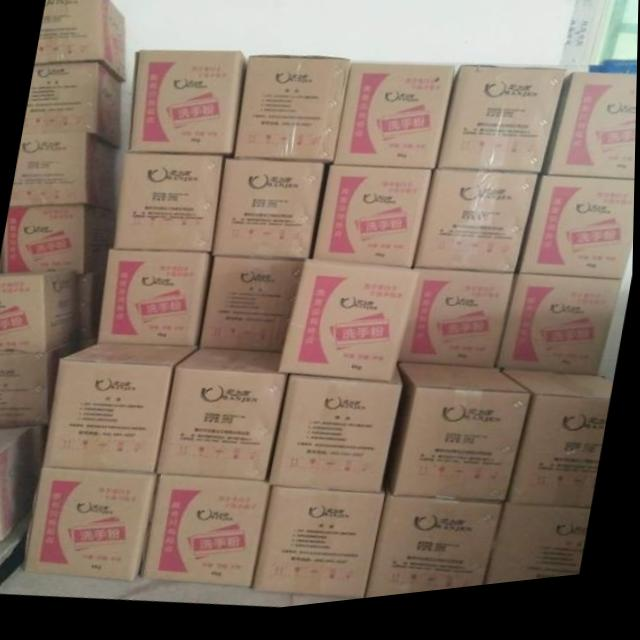box: (387, 372, 534, 513), (44, 345, 201, 477), (279, 266, 423, 392), (157, 354, 289, 488), (270, 376, 405, 502), (501, 380, 615, 523), (25, 468, 161, 585), (254, 493, 389, 607), (142, 478, 273, 595), (368, 498, 508, 607), (437, 76, 566, 186), (415, 179, 540, 286), (497, 285, 623, 391), (334, 70, 456, 179), (129, 53, 248, 161), (517, 187, 636, 294), (314, 173, 435, 277), (234, 62, 350, 170), (213, 164, 327, 267), (98, 252, 214, 352), (400, 279, 517, 378), (115, 156, 226, 258), (542, 86, 637, 194), (201, 261, 306, 358), (487, 515, 593, 596), (23, 65, 122, 151), (10, 134, 116, 212), (4, 206, 116, 278), (35, 0, 126, 85), (0, 342, 82, 429), (0, 272, 79, 355), (0, 429, 37, 541)
